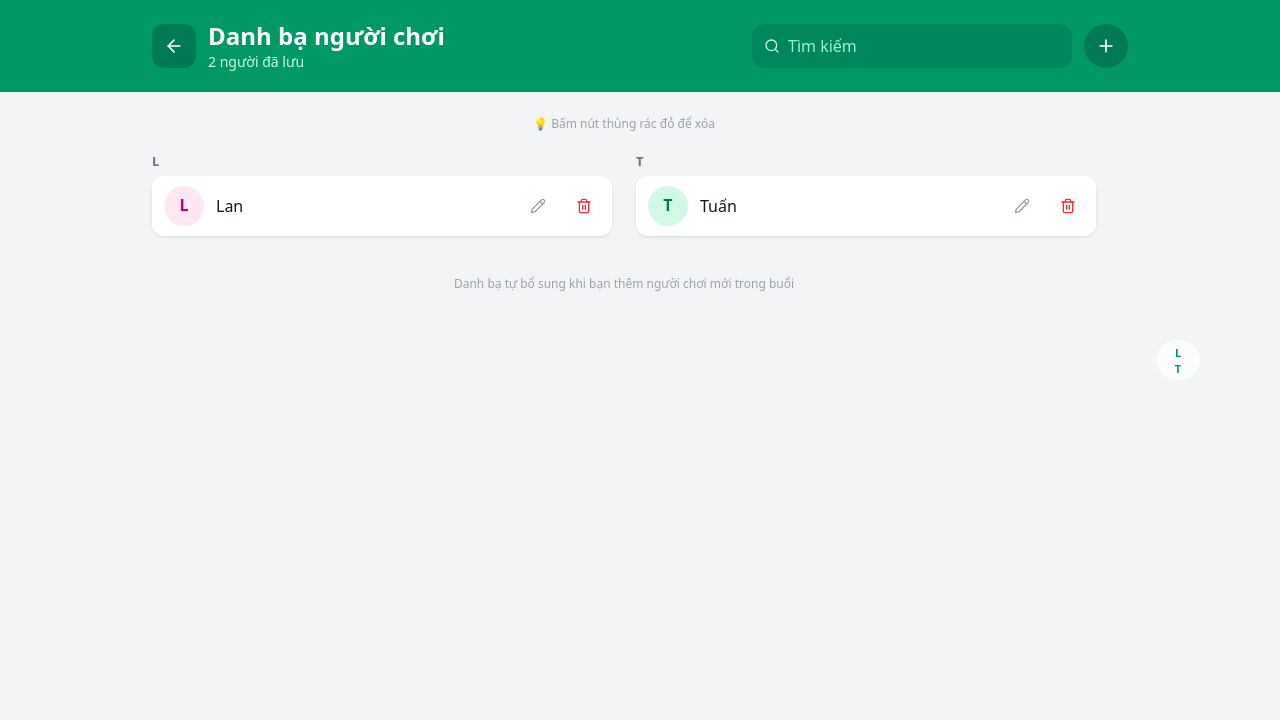
it: adds a new entry to the roster
Click the button named "Thêm vào danh bạ" at [1106, 46], box [1084,24,1128,68]
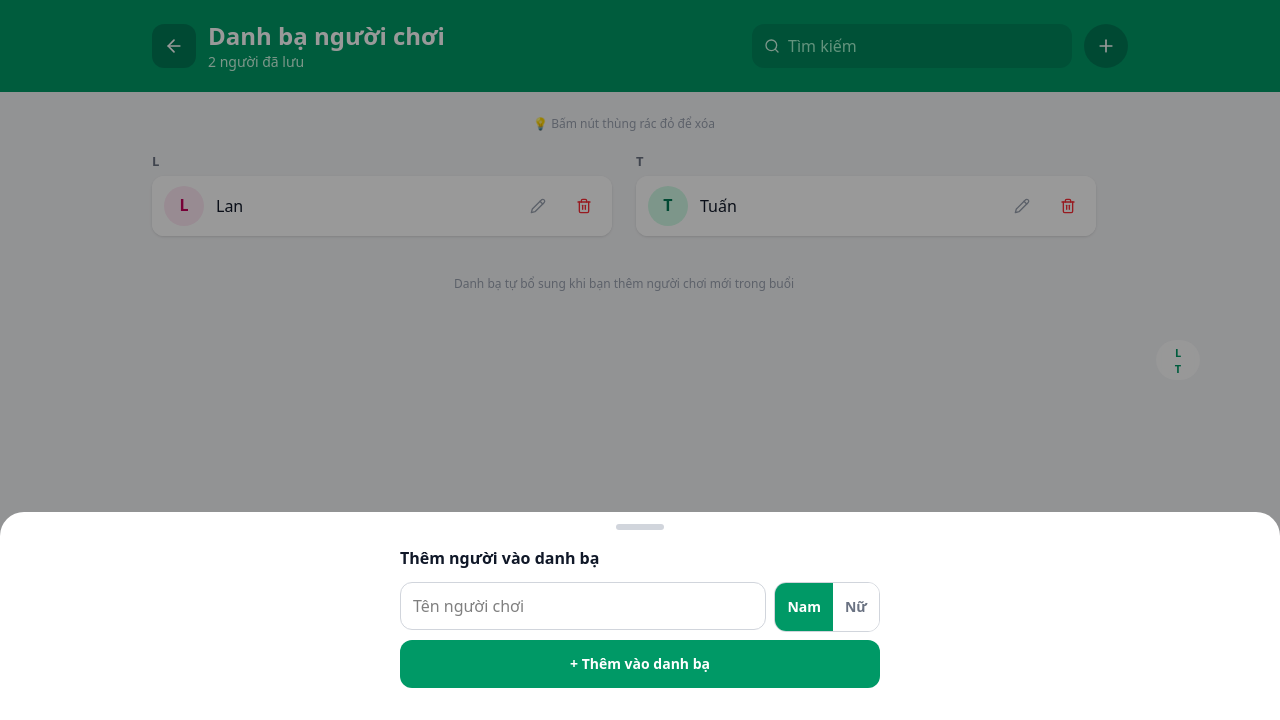
Type "Minh" into the field with placeholder "Tên người chơi" at [583, 606], box [400,582,766,630]
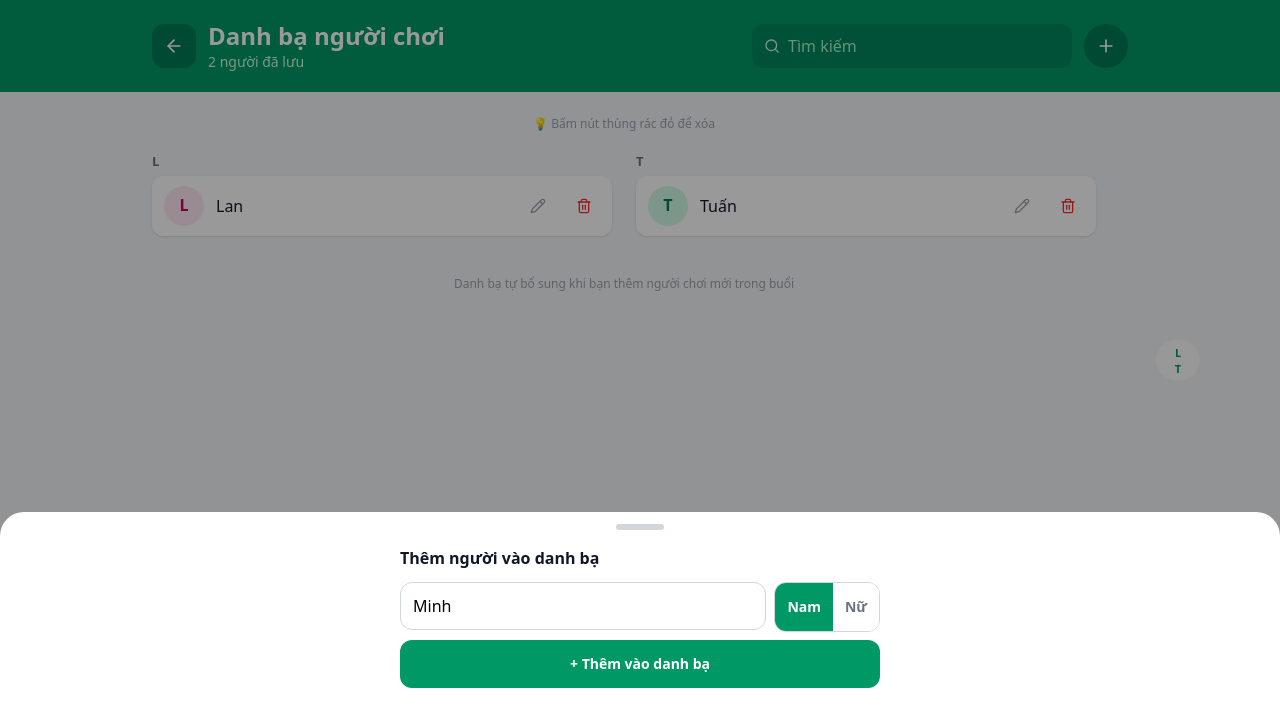
Click the button "+ Thêm vào danh bạ" at [640, 664], box [400,640,880,688]
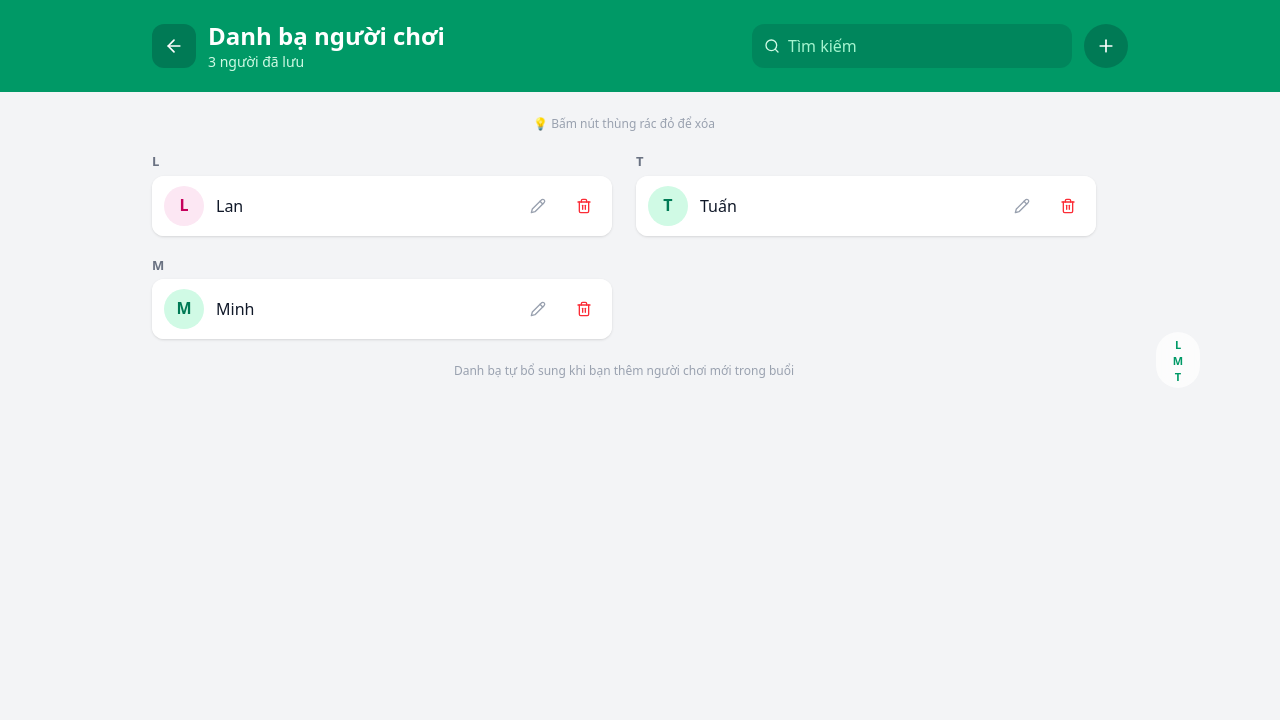
Check: the text "Minh" is shown, box [216,297,254,321]
Check: the text "3 người đã lưu" is shown, box [208,52,304,71]
